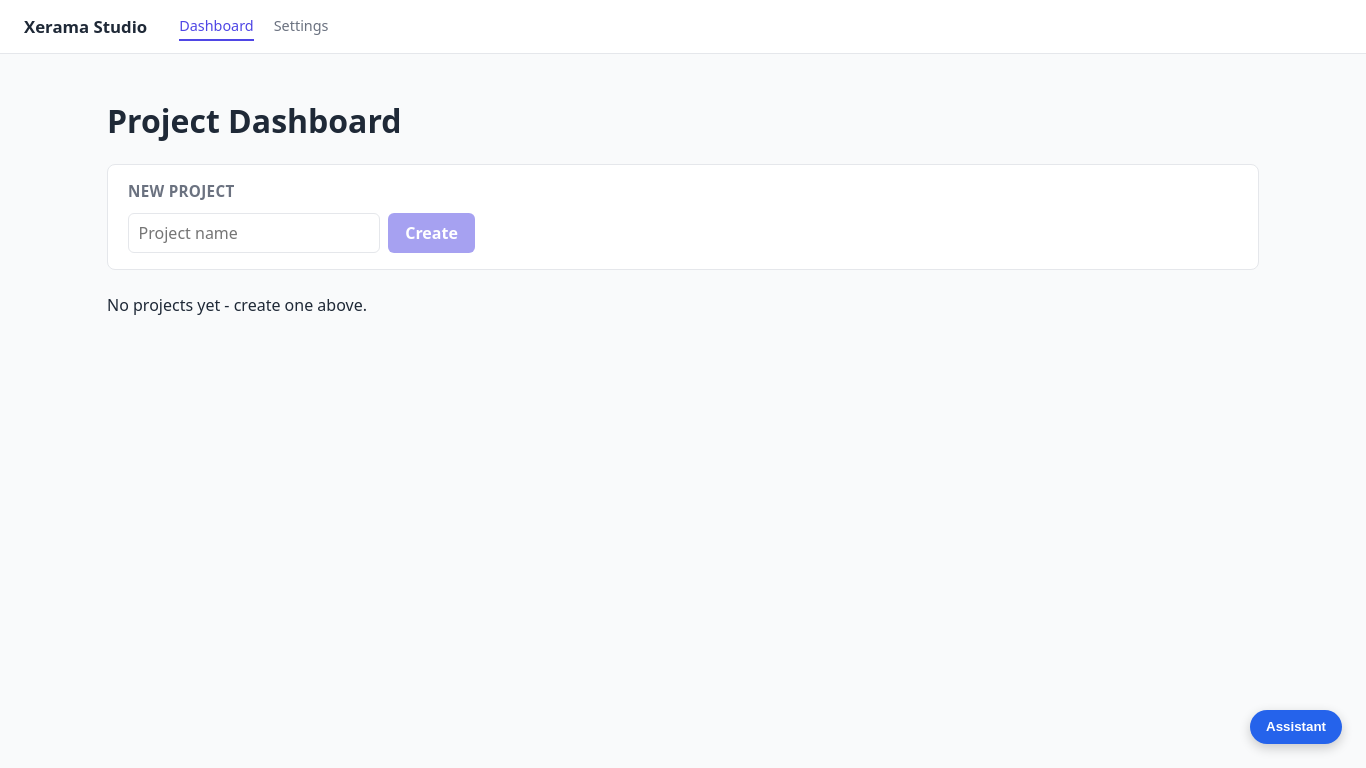
Scenario: Project Dashboard (MODULE-056) › creates a project via the form and refreshes the list
Expected: the text "No projects yet - create one above." is shown, [107, 294, 367, 316]
Type "Trial 01" into the field labelled "Project name" at (254, 233), box [128, 213, 380, 253]
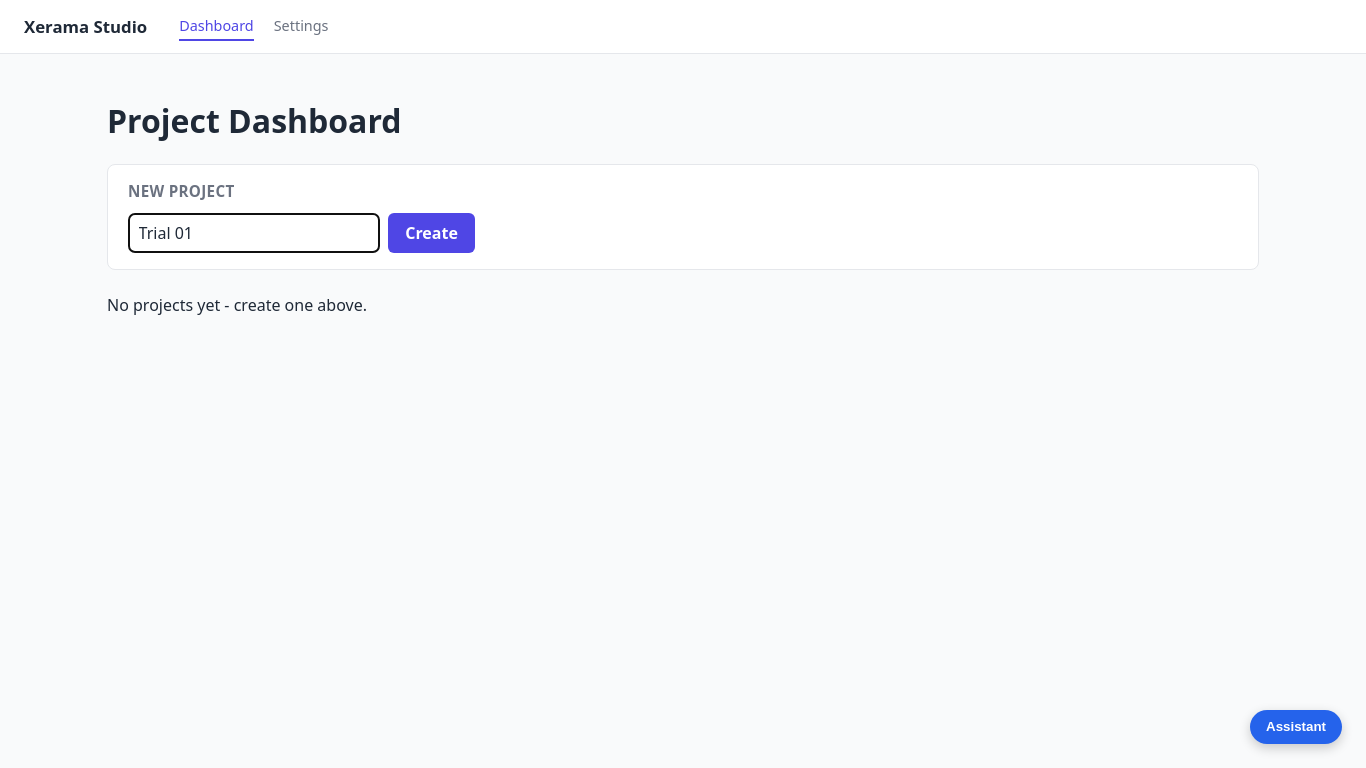
Click the button "Create" at (432, 233), box [388, 213, 475, 253]
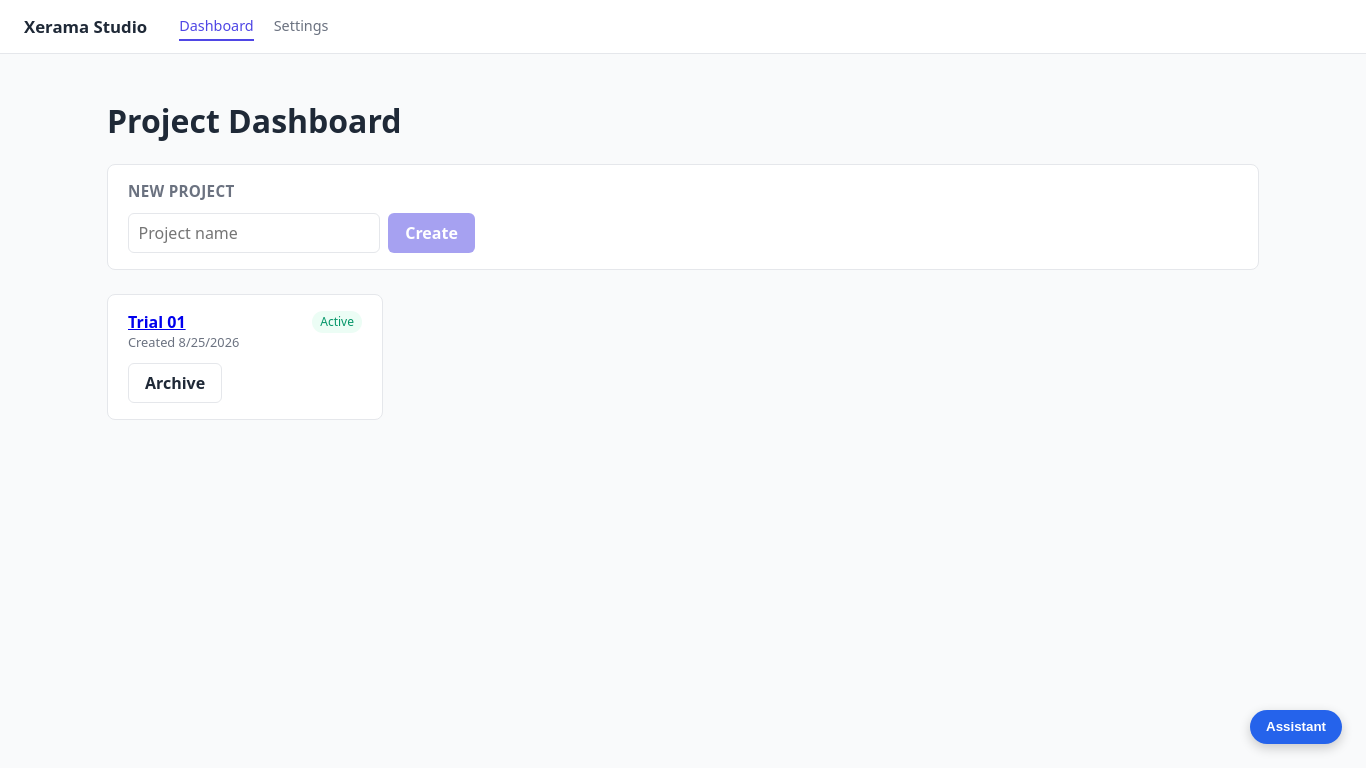
Now the text "Trial 01" is shown, box [128, 311, 186, 333]
